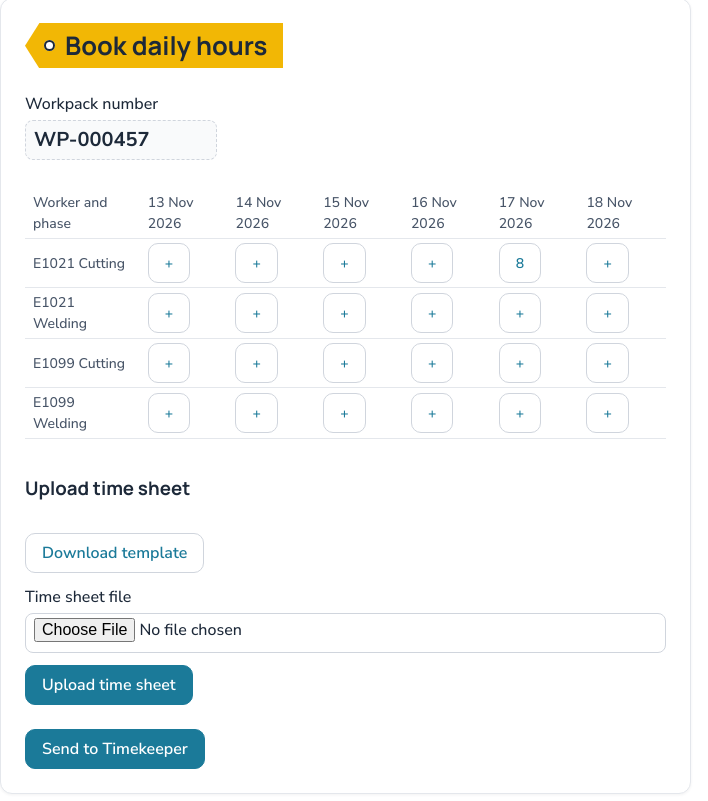
Test case: BookHours › BPA50_deleteIsOfferedOnlyOnDraftLinesAndAsksToConfirm
Later steps or results of the test are not shown.
Click the button named "E1021 Cutting 17 Nov 2026".
click(520, 263)  # box [499,243,541,283]
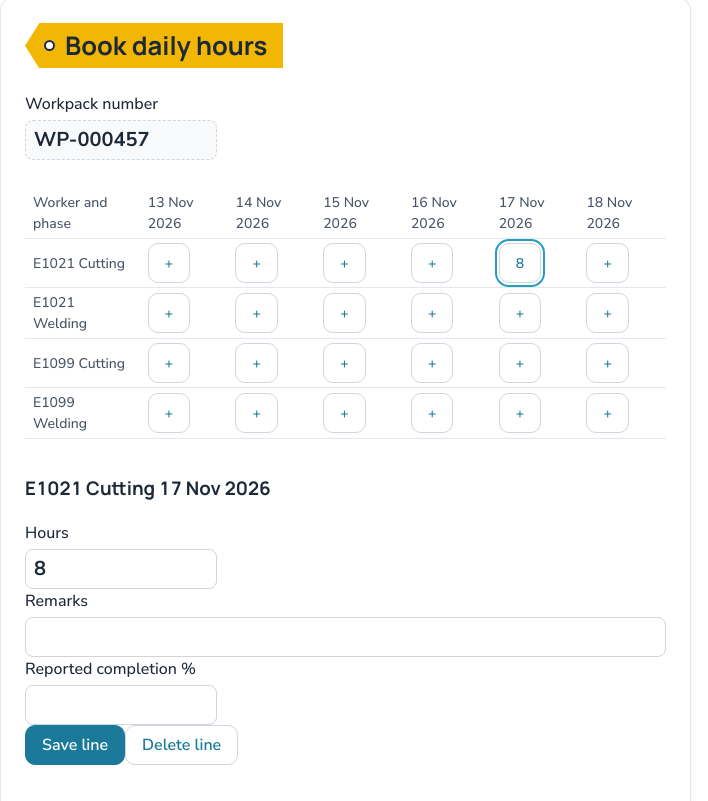
Click the button "Delete line".
click(182, 745)  # box [125,725,238,765]
(page scrolled)
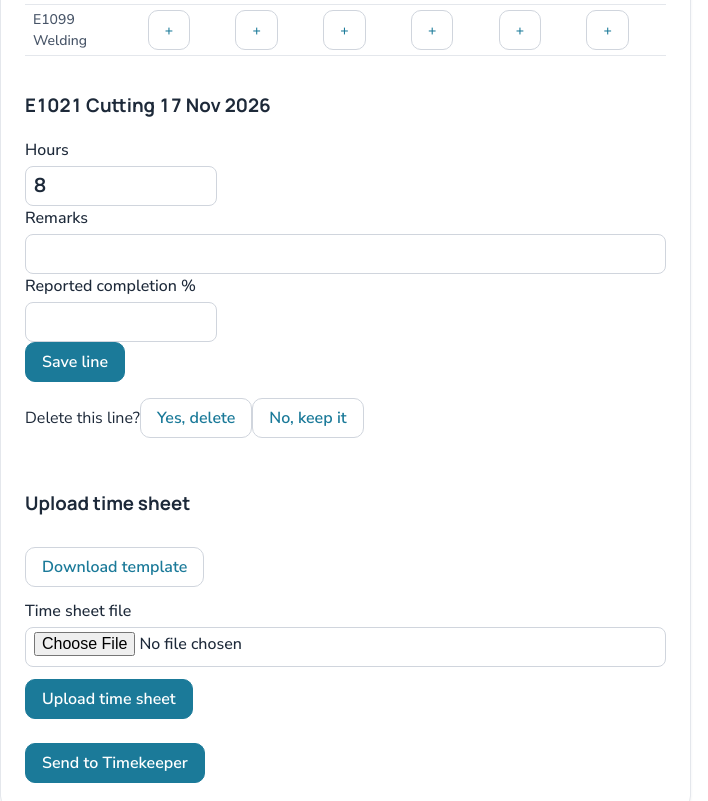
Expected: the text "Delete this line?" is shown, [25,407,140,429]
